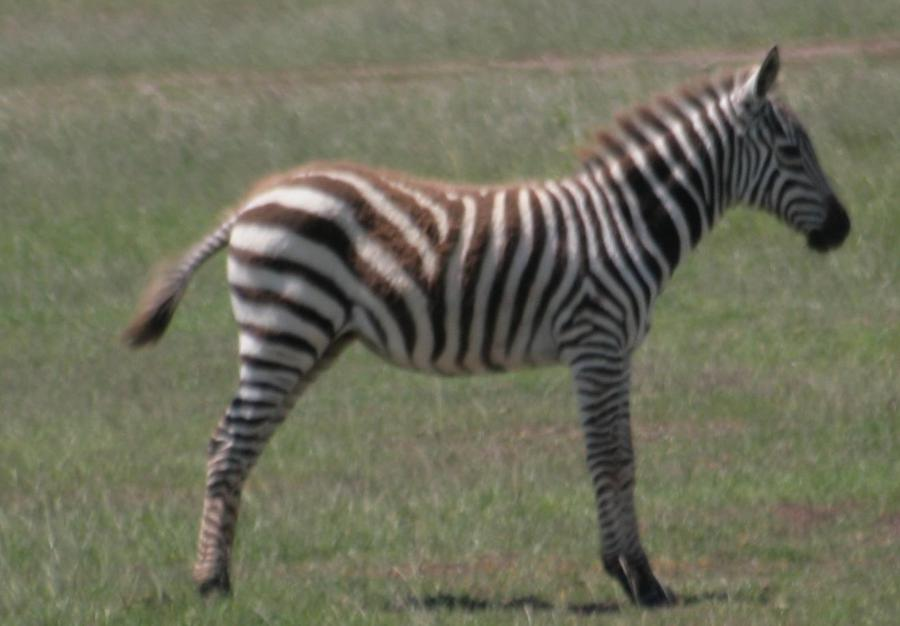zebra_plains: (201, 120, 691, 429)
